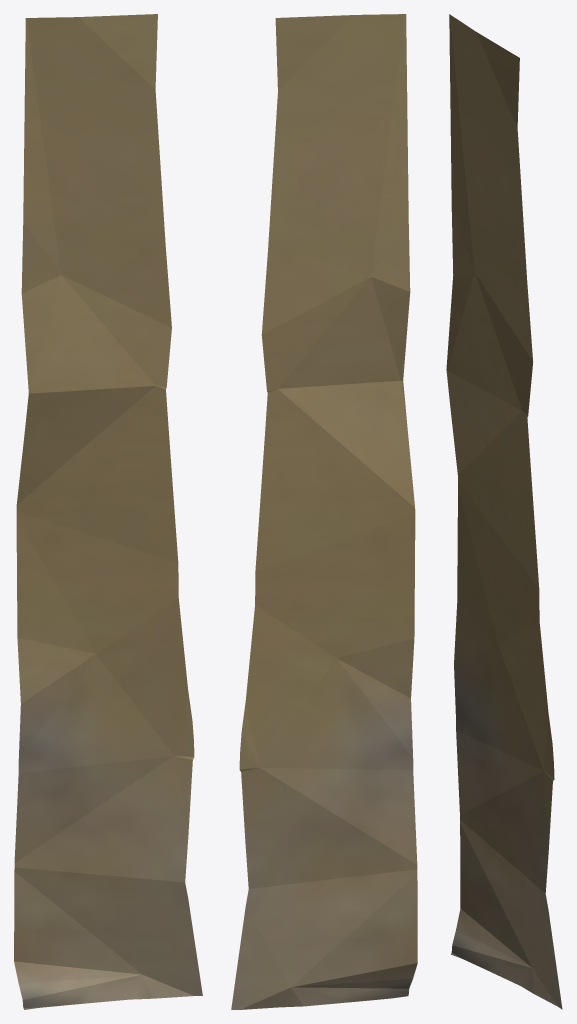
3 views of the same model, side by side, from view 1: azimuth 30°, elevation 25°; view 2: azimuth 210°, elevation 25°; view 3: azimuth 330°, elevation 25° (orthographic). The views are drawn at different scales.
Size of the model in its own units: 0.1308 by 0.8374 by 0.0621.
1 material, 1 textured.
